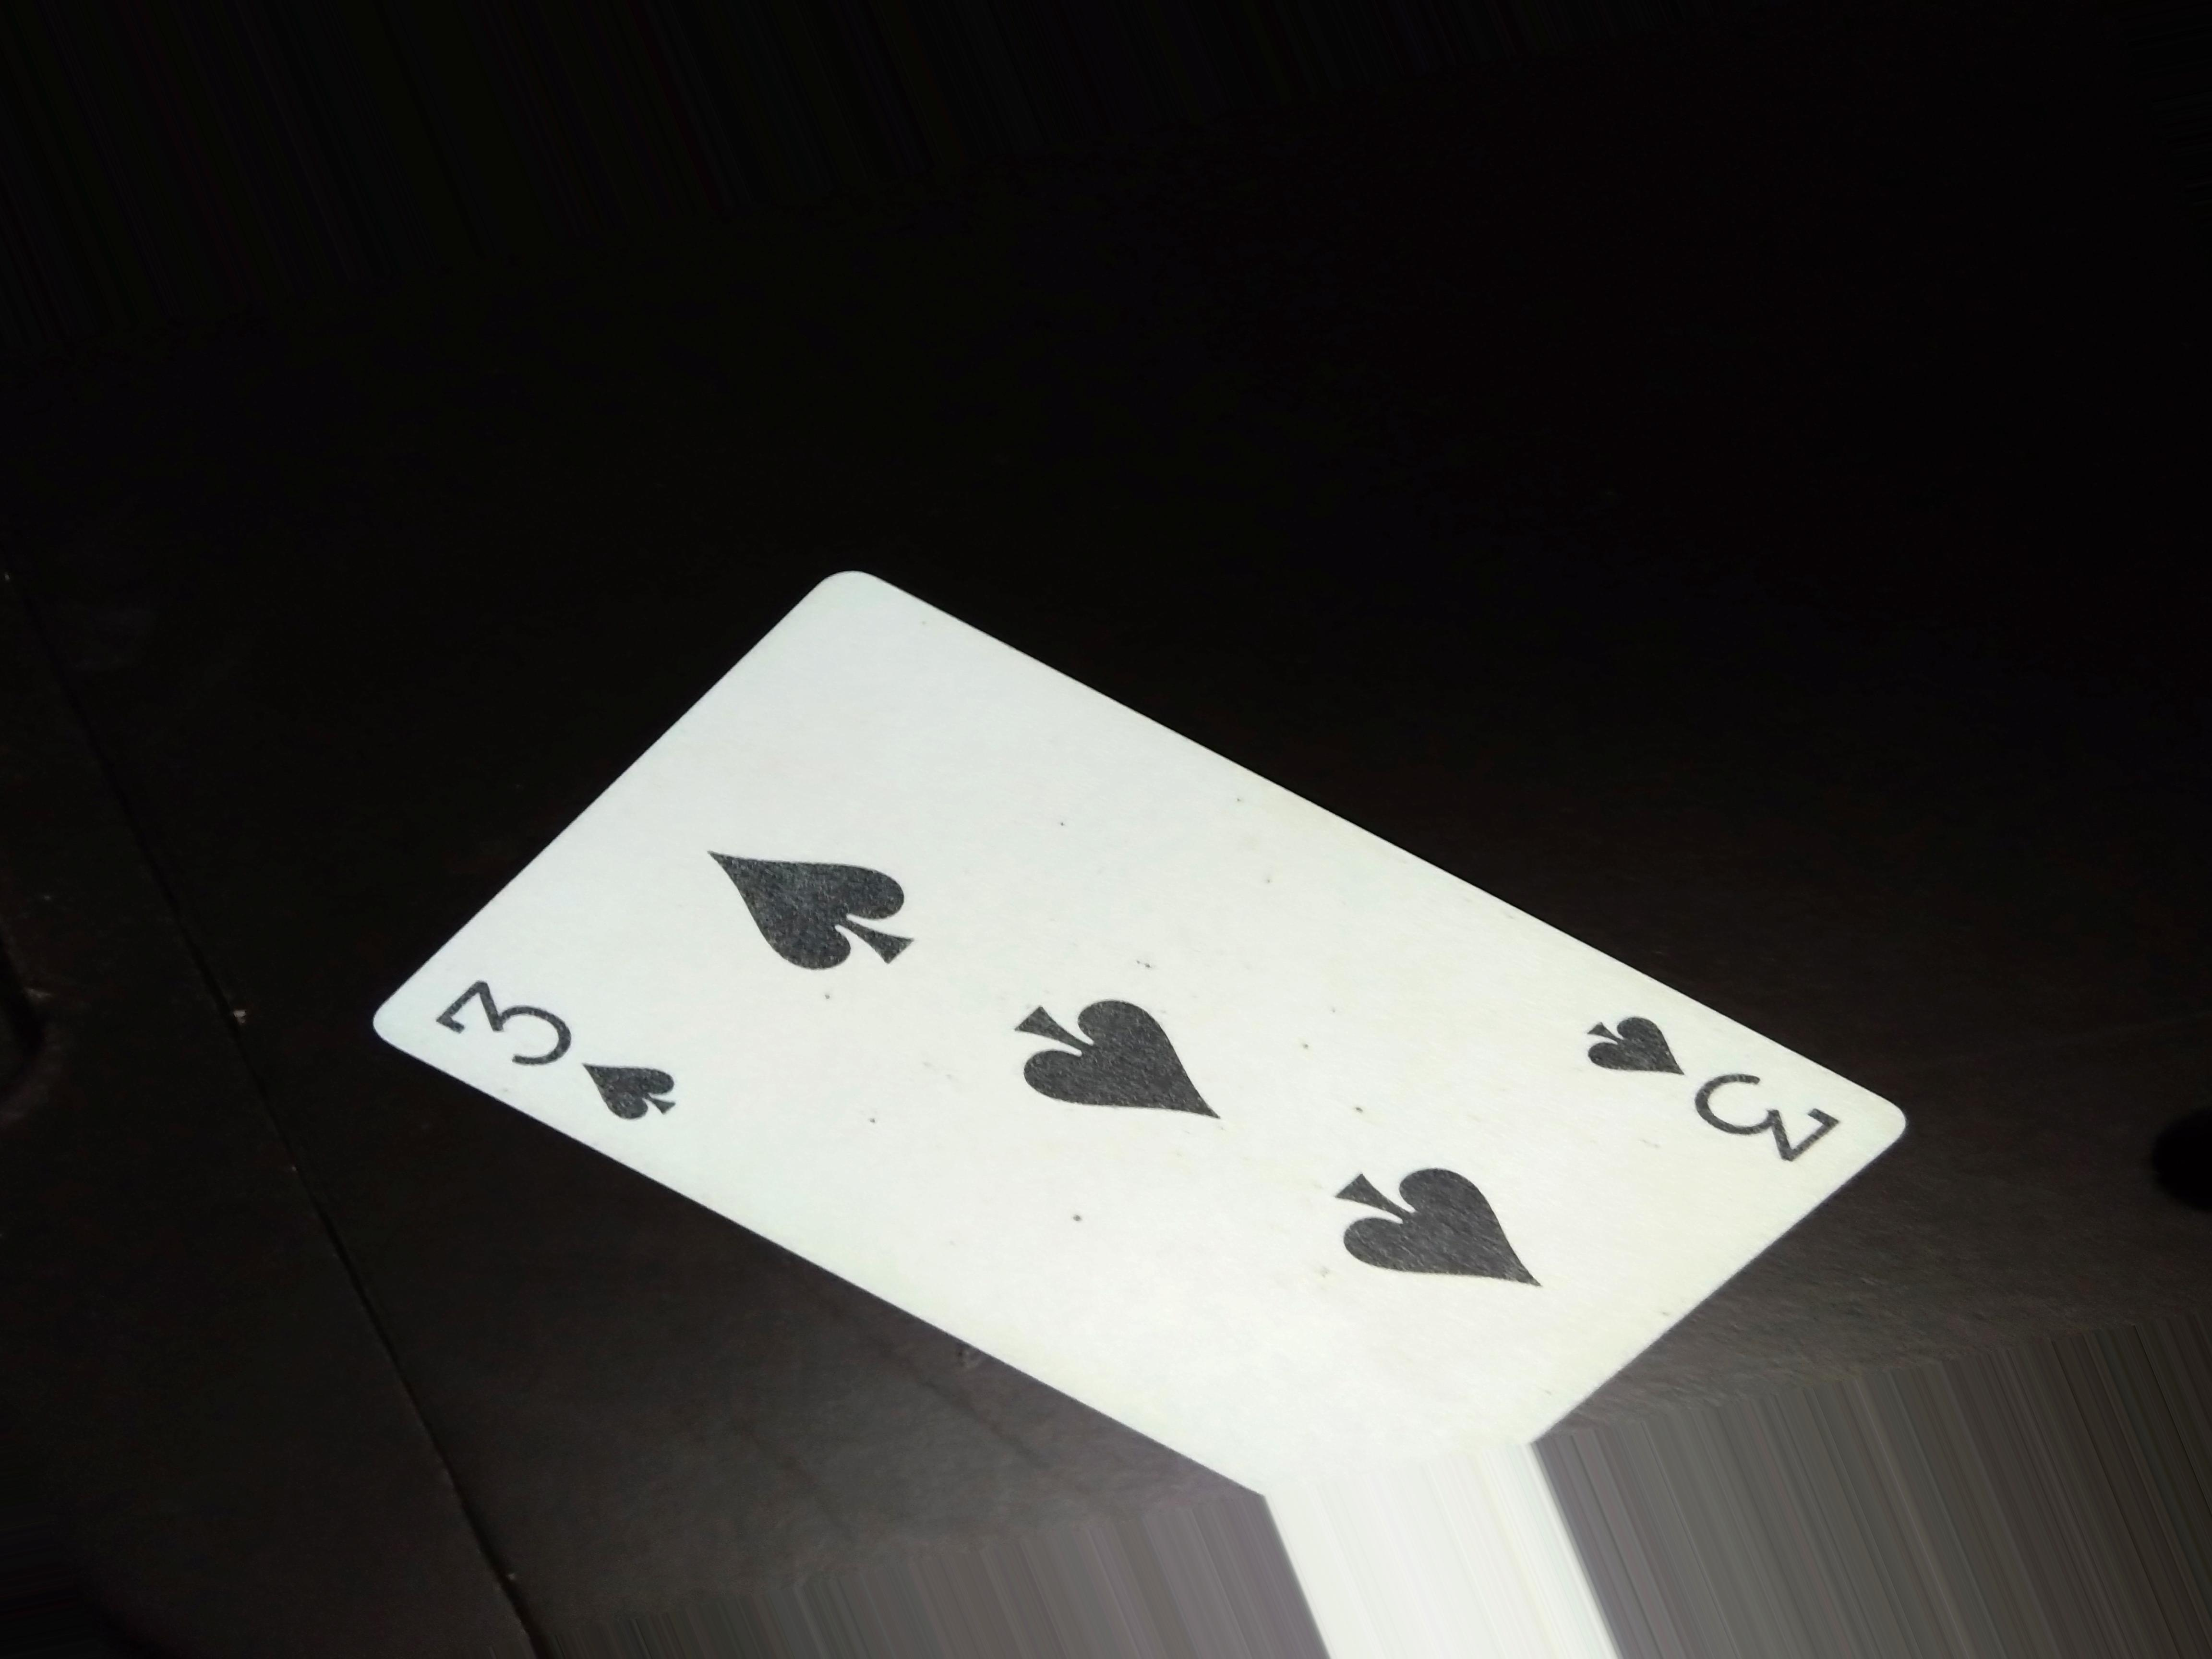3S: (416, 974, 697, 1164), (1575, 999, 1846, 1175)
